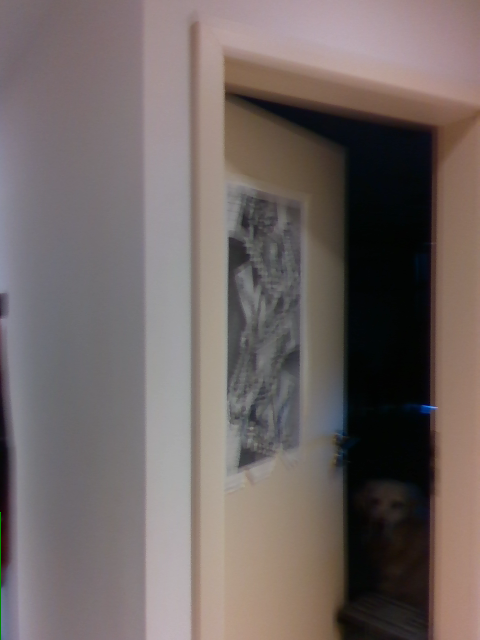semi: (193, 18, 479, 639)
